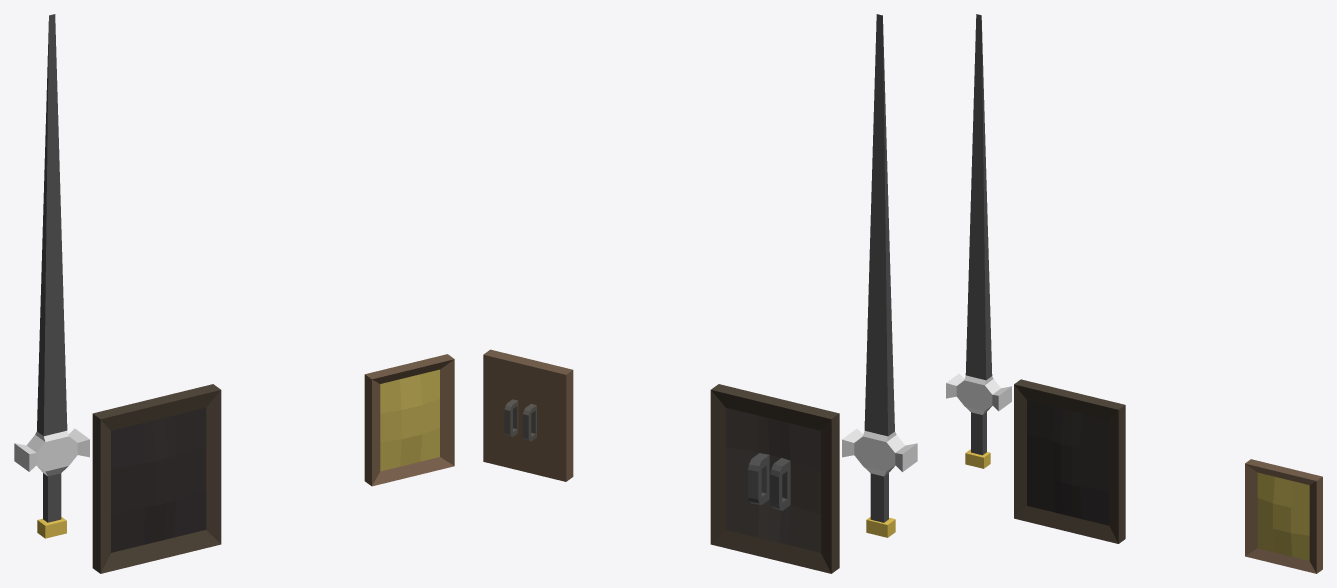
Rendered from arshvir_shield.glb.
3 views of the same model, side by side, from view 1: azimuth 30°, elevation 25°; view 2: azimuth 150°, elevation 25°; view 3: azimuth 330°, elevation 25° (orthographic). The views are drawn at different scales.
Parts seen in each view (by area): view 1: Shield, Sword-noimp, Shield_1-noimp; view 2: Shield, Sword-noimp, Shield_1-noimp; view 3: Shield, Sword-noimp, Shield_1-noimp.
Part boxes in pixels (<box>): Shield: <box>92,384,221,573</box>; Sword-noimp: <box>14,14,89,538</box>; Shield_1-noimp: <box>364,354,454,486</box>; Shield: <box>710,384,839,573</box>; Sword-noimp: <box>842,14,917,537</box>; Shield_1-noimp: <box>483,349,573,481</box>; Shield: <box>1014,379,1125,543</box>; Sword-noimp: <box>946,14,1011,468</box>; Shield_1-noimp: <box>1245,459,1322,573</box>.
Size of the model in its own units: 5.3 by 6.73 by 0.412.
